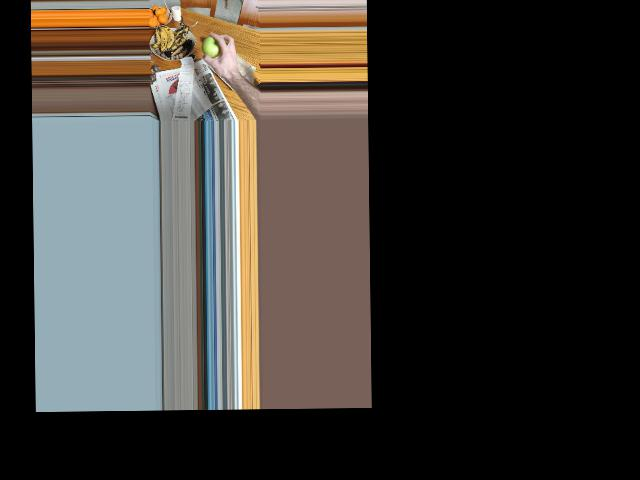apple: (202, 32, 223, 60)
